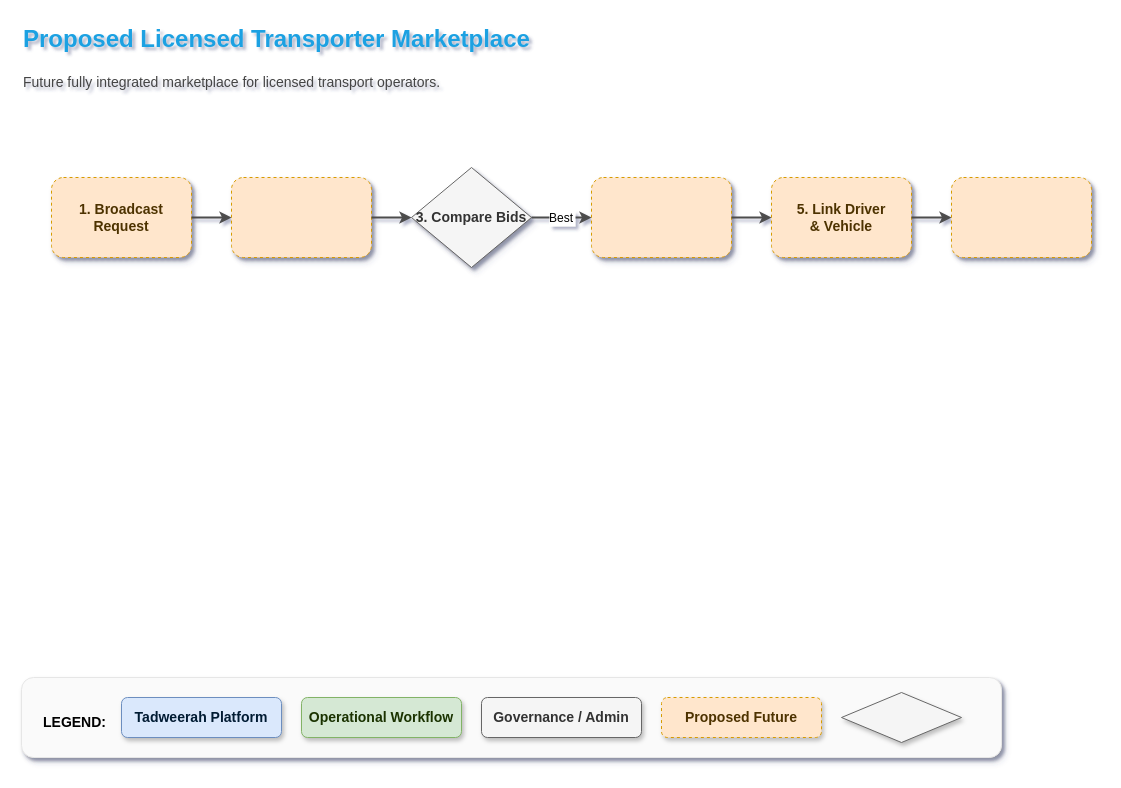
The diagram is 1121 pixels wide and 788 high, and some of its shapes have lost their labels. The shapes that lost their labels are listed below. From the top down, each one's centre as x and y in pixels, then its label:
the point at 302,218: 2. Licensed Carriers Bid
the point at 662,218: 4. Select Carrier
the point at 1022,218: 6. Live Track & Execute
the point at 902,719: Decision Gate
